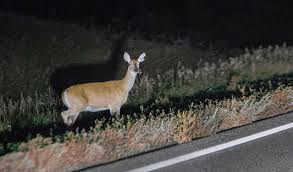deer: (61, 52, 147, 131)
